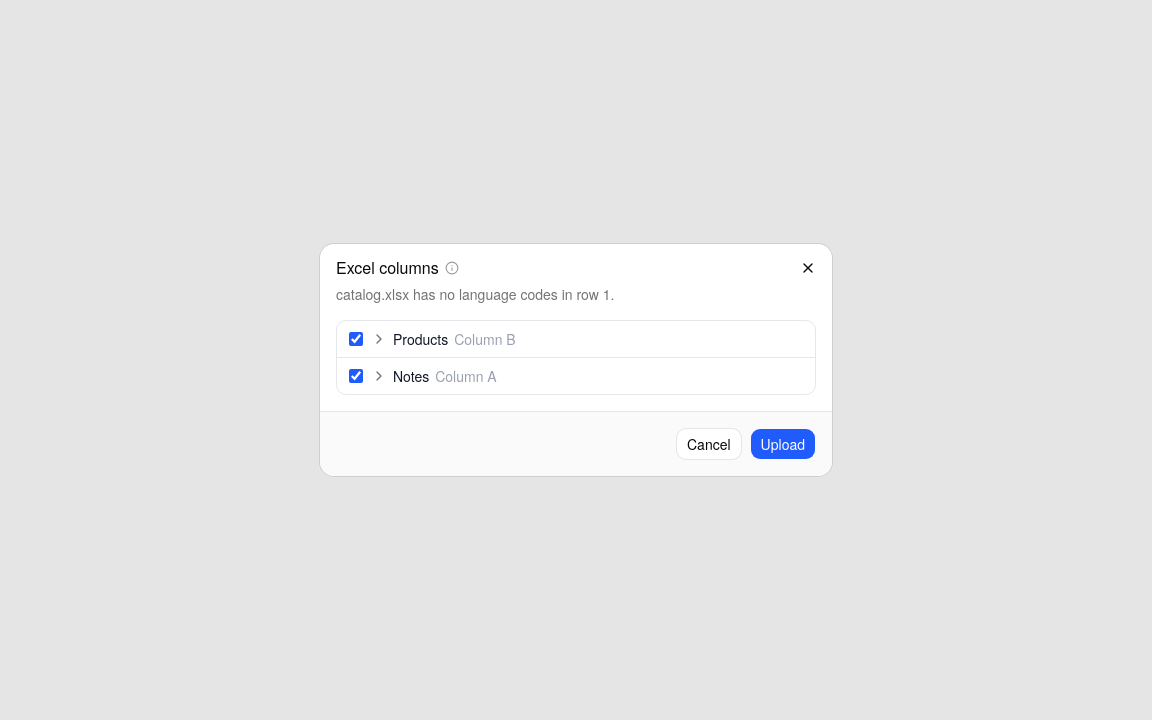
Test: XLSXLayoutDialog › selects every column at once, and clears them back to the whole sheet
This screenshot has width=1152, height=720.
Click the button with test id "xlsx-sheet-Products-toggle".
click(443, 339)  # box left=371, top=329, right=516, bottom=349
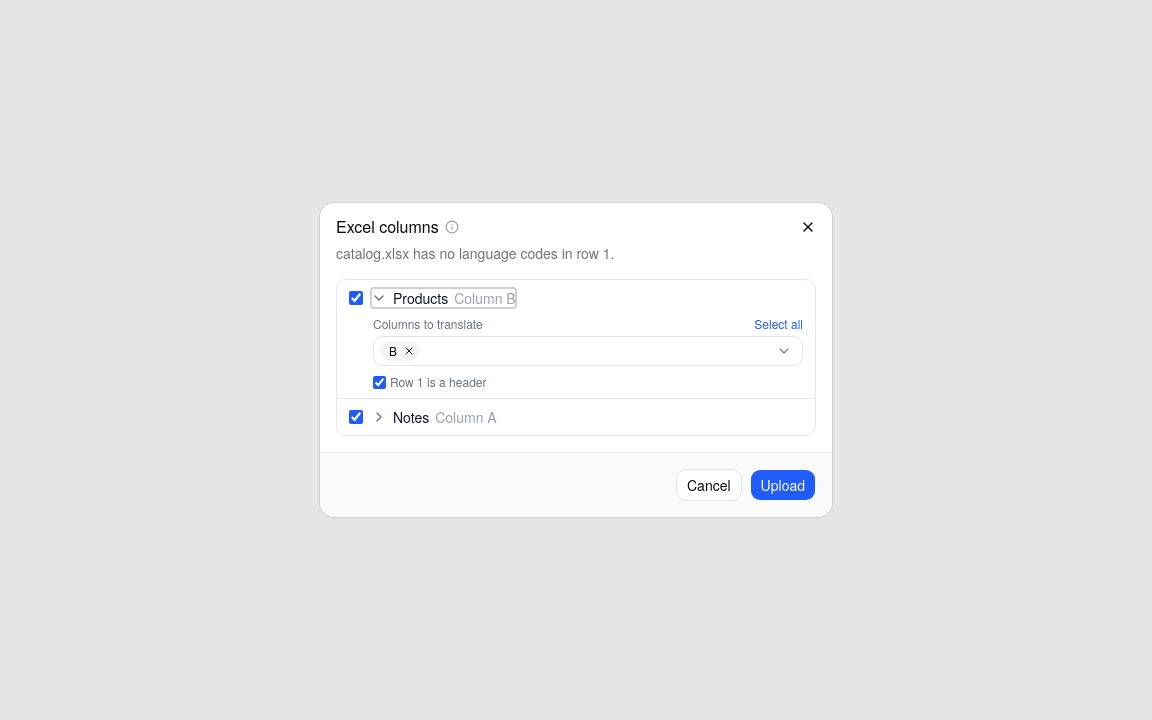
Expected: the button with test id "xlsx-sheet-Products-select-all" reads "Select all"
Click the button with test id "xlsx-sheet-Products-select-all".
click(779, 324)  # box left=754, top=316, right=803, bottom=332
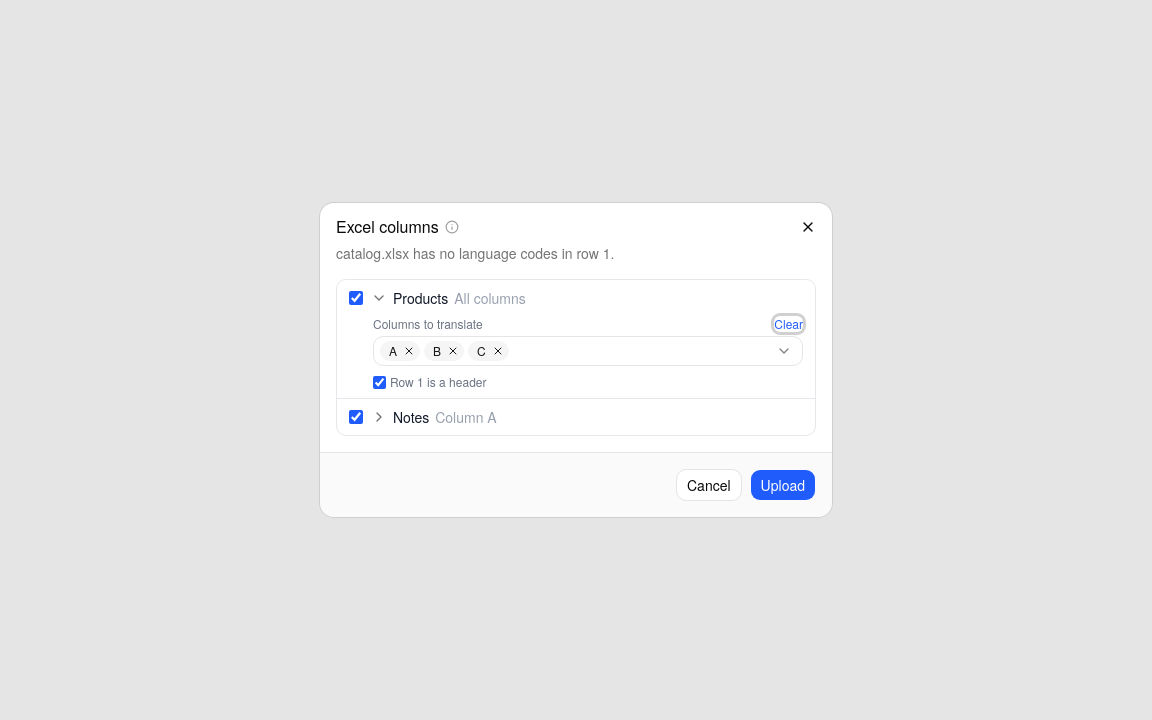
Expected: the button with test id "xlsx-sheet-Products-toggle" shows "All columns", left=371, top=288, right=526, bottom=308
Expected: the button with test id "xlsx-sheet-Products-select-all" reads "Clear", left=774, top=316, right=803, bottom=332
Click the button with test id "xlsx-layout-submit".
click(783, 485)  # box left=750, top=469, right=816, bottom=501
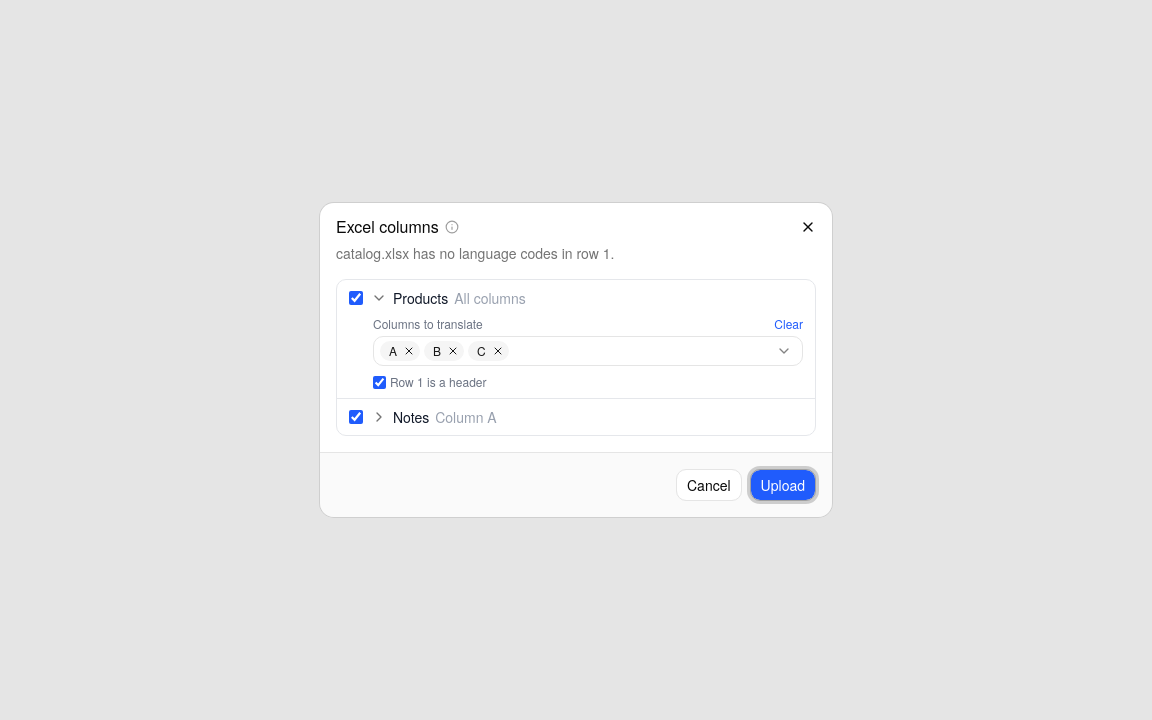
Click the button with test id "xlsx-sheet-Products-select-all".
click(789, 324)  # box left=774, top=316, right=803, bottom=332
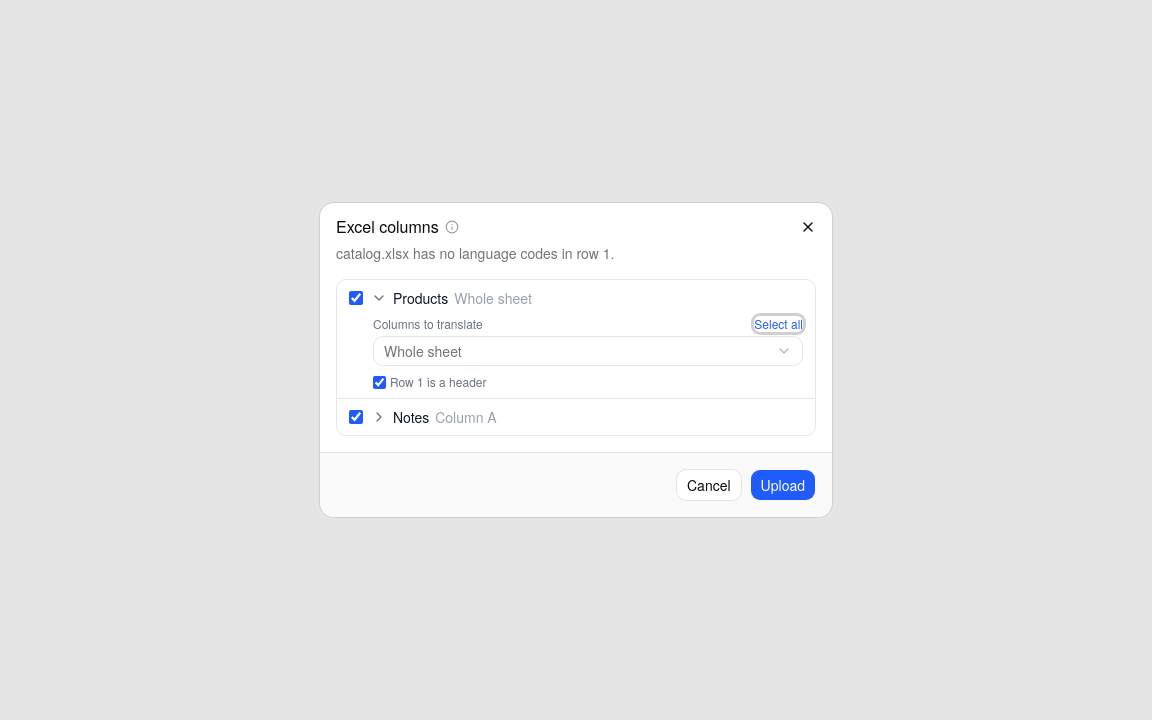
Expected: the button with test id "xlsx-sheet-Products-toggle" shows "Whole sheet", left=371, top=288, right=532, bottom=308
Expected: the button with test id "xlsx-sheet-Products-select-all" reads "Select all", left=754, top=316, right=803, bottom=332
